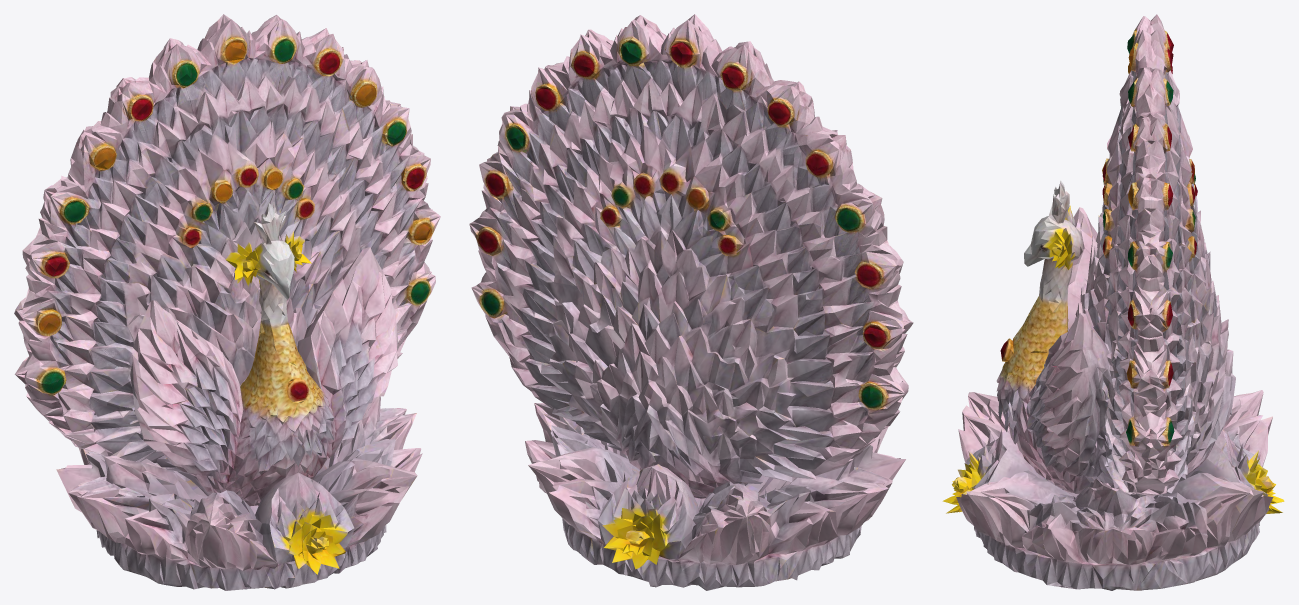
Rendered from w3hpeacock.glb.
3 views of the same model, side by side, from view 1: azimuth 30°, elevation 25°; view 2: azimuth 150°, elevation 25°; view 3: azimuth 270°, elevation 25° (orthographic). The views are drawn at different scales.
Parts seen in each view (by area): view 1: output_unwrapped; view 2: output_unwrapped; view 3: output_unwrapped.
Boxes of the visible parts, box(x1,y1,x2,y2) form: output_unwrapped: box(14, 14, 440, 590); output_unwrapped: box(469, 14, 913, 590); output_unwrapped: box(942, 14, 1284, 590).
Bounding box in the file's own units: 0.5641 × 0.65 × 0.3999.
Materials: 1 (1 with a texture image).
